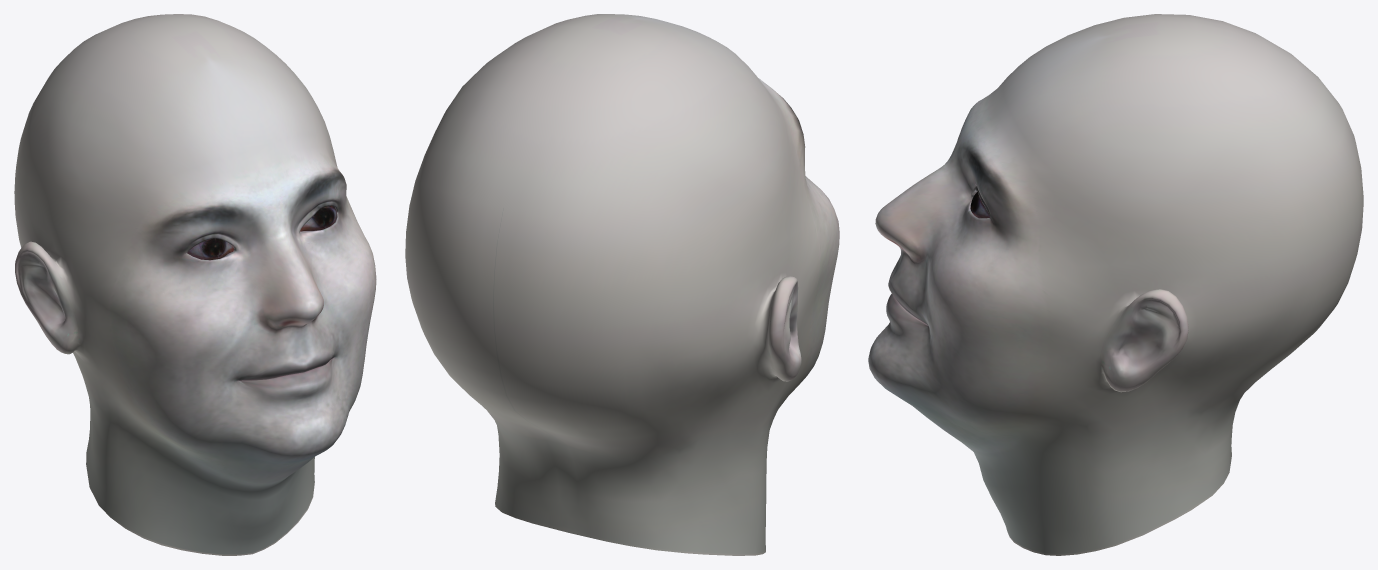
3 views of the same model, side by side, from view 1: azimuth 30°, elevation 25°; view 2: azimuth 150°, elevation 25°; view 3: azimuth 270°, elevation 25° (orthographic). The views are drawn at different scales.
Visible parts, largest first — view 1: skin_hi, eyeR_hi, eyeL_hi; view 2: skin_hi; view 3: skin_hi.
Part boxes in pixels (left/top/right/bottom): skin_hi: left=14, top=14, right=376, bottom=555; eyeR_hi: left=187, top=238, right=233, bottom=260; eyeL_hi: left=300, top=206, right=336, bottom=231; skin_hi: left=405, top=14, right=839, bottom=555; skin_hi: left=868, top=14, right=1363, bottom=555.
Size of the model in its own units: 196 by 278 by 247.
